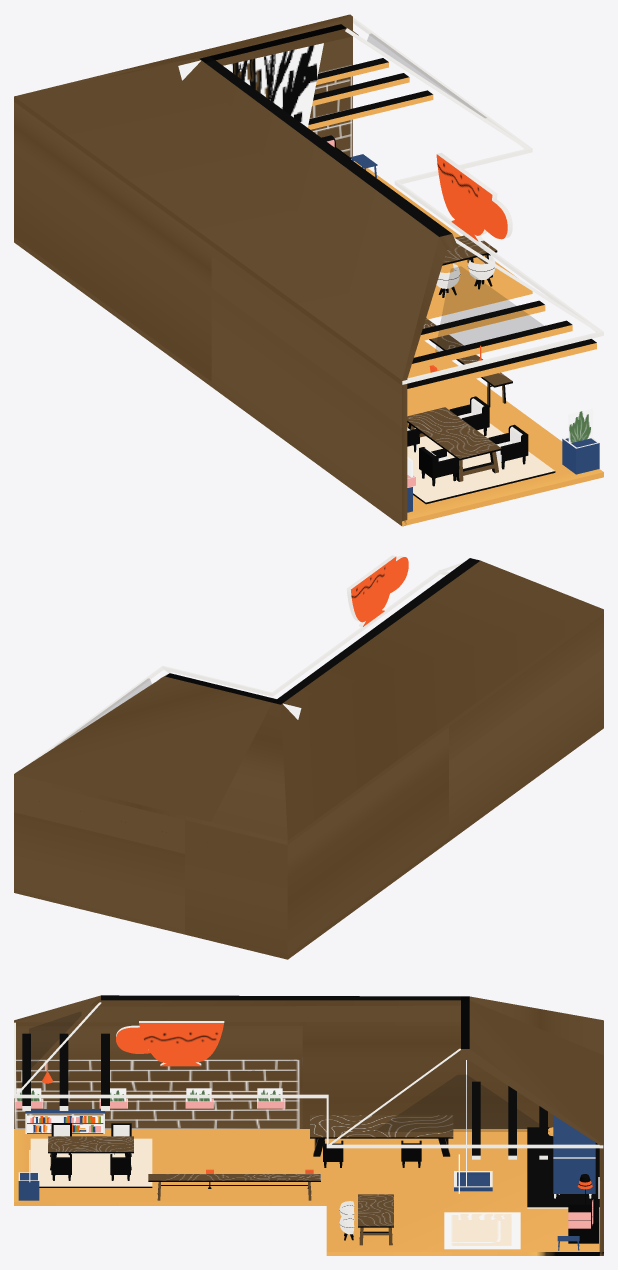
File: 咖啡厅.fbx
3 renders of one model, top to bottom at view 1: azimuth 30°, elevation 25°; view 2: azimuth 150°, elevation 25°; view 3: azimuth 270°, elevation 25°, orthographic. The views are drawn at different scales.
Visible parts, largest first — view 1: 咖啡厅, 立方体_3_4, 树, 立方体_4_4, 立方体_2, 杯子, 桌子_1, 立方体_3_3, 立方体_1_3, 立方体_2_3, 立方体_3_2, 花盘_1 (+10 smaller); view 2: 咖啡厅, 杯子, 立方体_4_4; view 3: 咖啡厅, 立方体_4_3, 立方体_2, 杯子, 桌子_5, 立方体_4_4, 地毯, 立方体_1, 书架, 桌子_1, 桌子_2, 桌子_3 (+17 smaller).
Boxes of the visible parts, x1,y1,x2,y2 form: 咖啡厅: (14,14,603,526); 立方体_3_4: (436,267,543,351); 树: (178,43,323,127); 立方体_4_4: (353,17,603,384); 立方体_2: (407,423,555,504); 杯子: (436,152,512,241); 桌子_1: (407,407,501,481); 立方体_3_3: (407,339,596,395); 立方体_1_3: (410,320,572,370); 立方体_2_3: (419,300,545,341); 立方体_3_2: (308,90,433,129); 花盘_1: (562,437,599,474); 咖啡厅: (14,558,603,959); 杯子: (346,555,408,626); 立方体_4_4: (22,569,449,768); 咖啡厅: (14,995,603,1255); 立方体_4_3: (375,1075,549,1131); 立方体_2: (30,1138,152,1187); 杯子: (116,1021,224,1066); 桌子_5: (310,1115,453,1156); 立方体_4_4: (14,1022,603,1148); 地毯: (444,1212,520,1249); 立方体_1: (527,1127,599,1208); 书架: (553,1115,595,1193); 桌子_1: (48,1136,133,1170); 桌子_2: (148,1174,320,1200); 桌子_3: (358,1194,393,1245).
Bounding box in the file's own units: 1000 × 652 × 2000.
